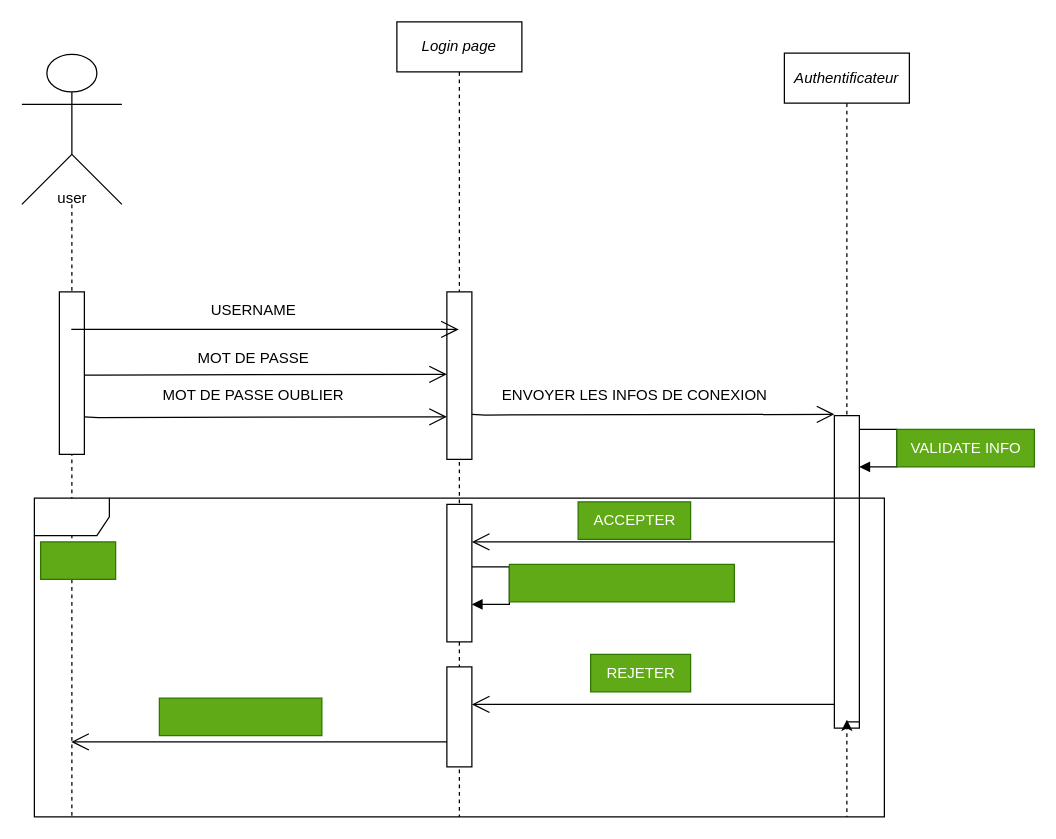
Image size: 1056x839. Some labels were removed from this diagram. Here are the shapes that lost their labels. From the top down, the centre of each, then its label:
At point 77,560: "IF VALID".
At point 621,582: "REDIRIGER VERS LA PAGE".
At point 240,716: "INCORRECT INFO".
